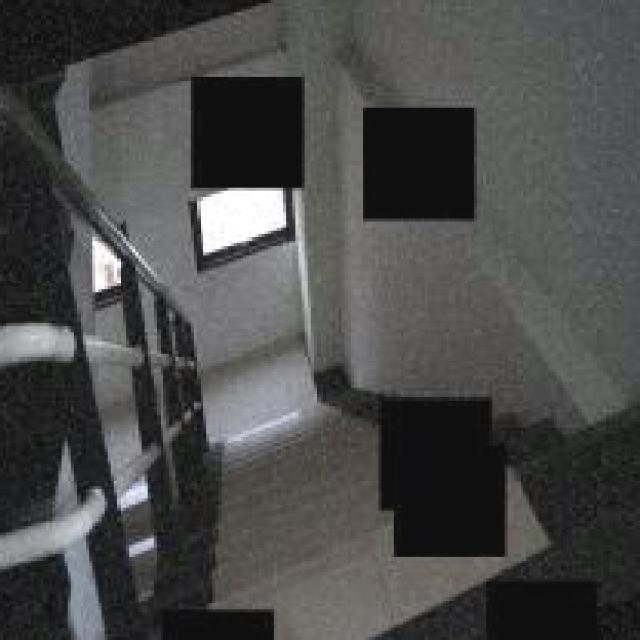downstair: (210, 456, 370, 595)
